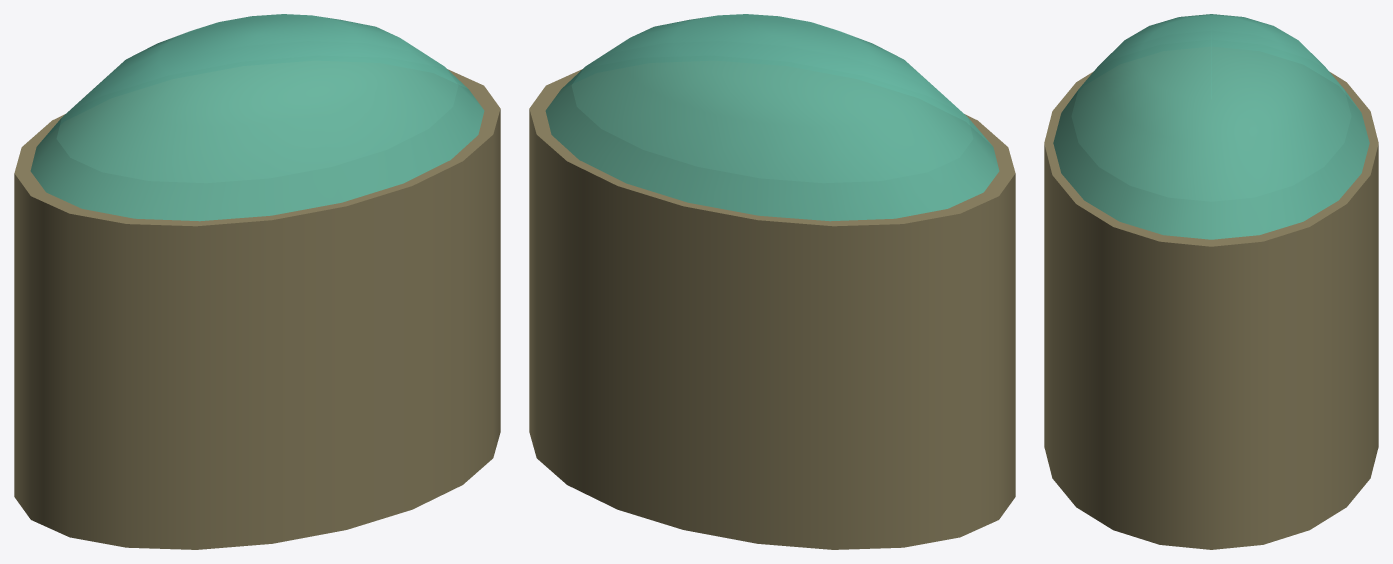
File: small globe building.fbx
The picture shows the model from 3 angles, left to right: view 1: azimuth 30°, elevation 25°; view 2: azimuth 150°, elevation 25°; view 3: azimuth 270°, elevation 25°; orthographic projection. The views are drawn at different scales.
Visible parts, largest first — view 1: small_globe_building; view 2: small_globe_building; view 3: small_globe_building.
Boxes of the visible parts, x1,y1,x2,y2 form: small_globe_building: (14,14,500,549); small_globe_building: (529,14,1015,549); small_globe_building: (1044,14,1378,549).
Bounding box in the file's own units: 5.98 × 5.42 × 4.08.
